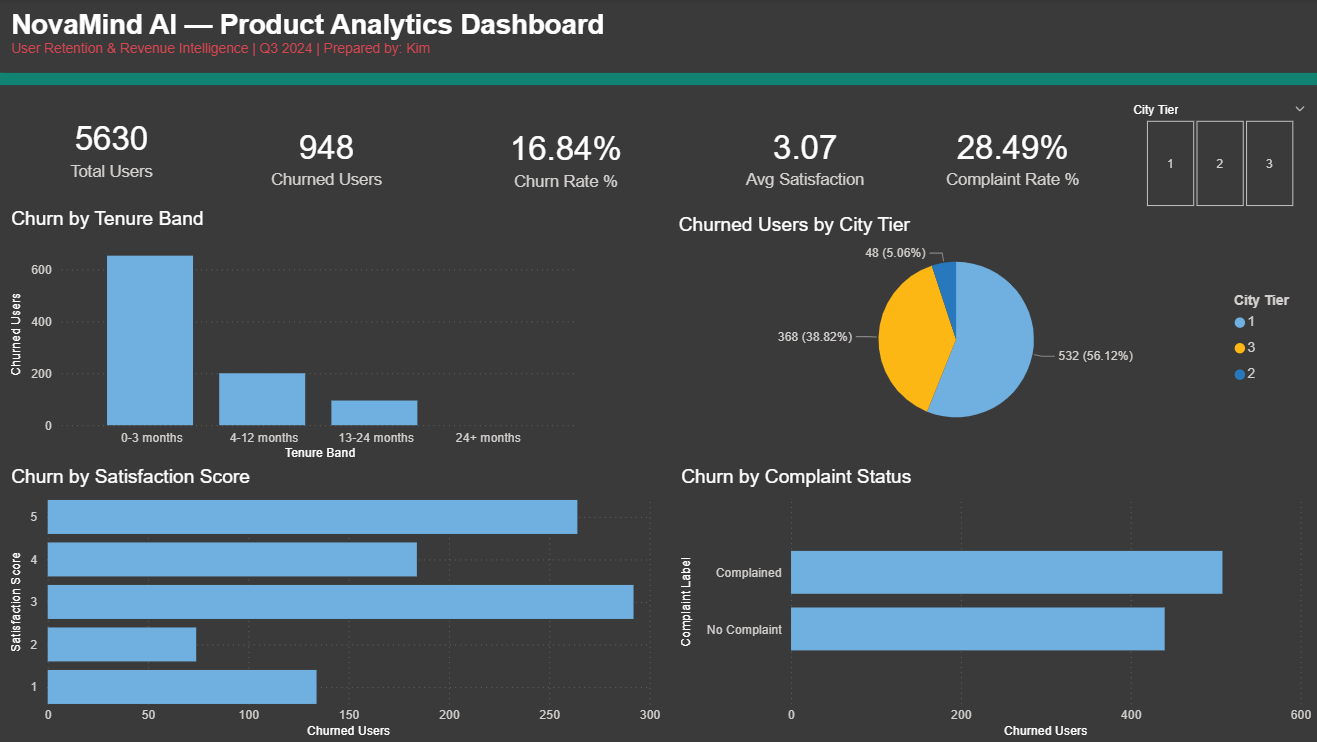

The page's visual inventory and layout, read from the dashboard file:
{"tool":"powerbi","page":{"name":"Executive Overview","canvas":[1280,720],"ordinal":0},"visuals":[{"type":"shape","box":[0,71.4,1279.5,12.1],"z":0},{"type":"card","fields":{"Values":["novamind_users_clean.Total Users"]},"box":[0,96,224,96],"z":1000},{"type":"card","fields":{"Values":["novamind_users_clean.Churned Users"]},"box":[208,96,224,112],"z":2000},{"type":"card","fields":{"Values":["novamind_users_clean.Churn Rate %"]},"box":[432.1,96.8,239.7,112.6],"z":3000},{"type":"card","fields":{"Values":["novamind_users_clean.Avg Satisfaction"]},"box":[672,96,224,112],"z":4000},{"type":"card","fields":{"Values":["novamind_users_clean.Complaint Rate %"]},"box":[881.2,95.6,207,112.6],"z":5000},{"type":"clusteredColumnChart","title":"Churn by Tenure Band","fields":{"Category":["novamind_users_clean.Tenure Band"],"Y":["novamind_users_clean.Churned Users"]},"box":[9.7,202.2,559.2,249.4],"z":6000},{"type":"clusteredBarChart","title":"Churn by Satisfaction Score","fields":{"Category":["novamind_users_clean.satisfactionscore"],"Y":["novamind_users_clean.Churned Users"]},"box":[9.6,451.5,639.5,269],"z":7000},{"type":"pieChart","title":"Churned Users by City Tier","fields":{"Category":["novamind_users_clean.citytier"],"Y":["novamind_users_clean.Churned Users"]},"box":[656.1,208.2,619.8,222.7],"z":8000},{"type":"clusteredBarChart","title":"Churn by Complaint Status","fields":{"Category":["novamind_users_clean.Complaint Label"],"Y":["novamind_users_clean.Churned Users"]},"box":[658.5,451.5,621,268.7],"z":9000},{"type":"slicer","fields":{"Values":["novamind_users_clean.citytier"]},"box":[1088,96,192,112],"z":10000},{"type":"textbox","box":[9.7,9.7,1269.8,61.7],"z":11000}]}

Visuals, with their boxes in screenshot pixels (x1, y1, x2, y2), scaled from the page's 1280x720 canvas onto the 1317x742 screenshot:
shape: 0:74:1316:86
card - novamind_users_clean.Total Users: 0:99:230:198
card - novamind_users_clean.Churned Users: 214:99:444:214
card - novamind_users_clean.Churn Rate %: 445:100:691:216
card - novamind_users_clean.Avg Satisfaction: 691:99:922:214
card - novamind_users_clean.Complaint Rate %: 907:99:1120:215
"Churn by Tenure Band" clusteredColumnChart: 10:208:585:465
"Churn by Satisfaction Score" clusteredBarChart: 10:465:668:741
"Churned Users by City Tier" pieChart: 675:215:1313:444
"Churn by Complaint Status" clusteredBarChart: 678:465:1316:741
slicer - novamind_users_clean.citytier: 1119:99:1316:214
textbox: 10:10:1316:74
